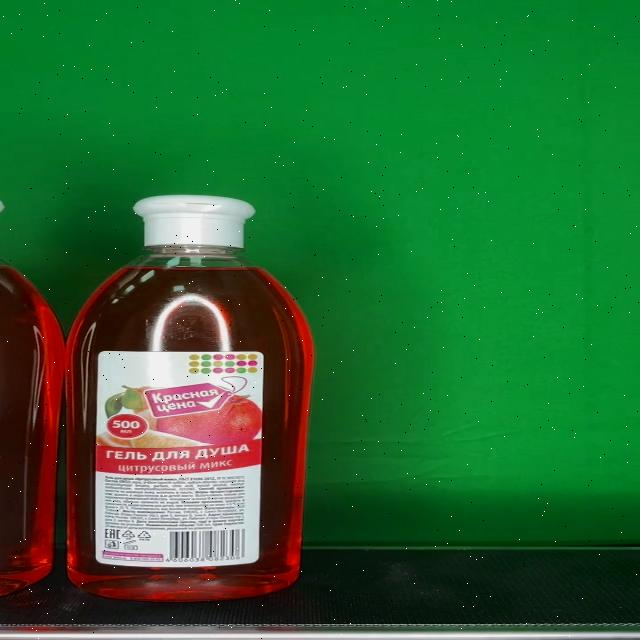Bottle: (63, 194, 314, 600)
Cap: (131, 195, 254, 248)
